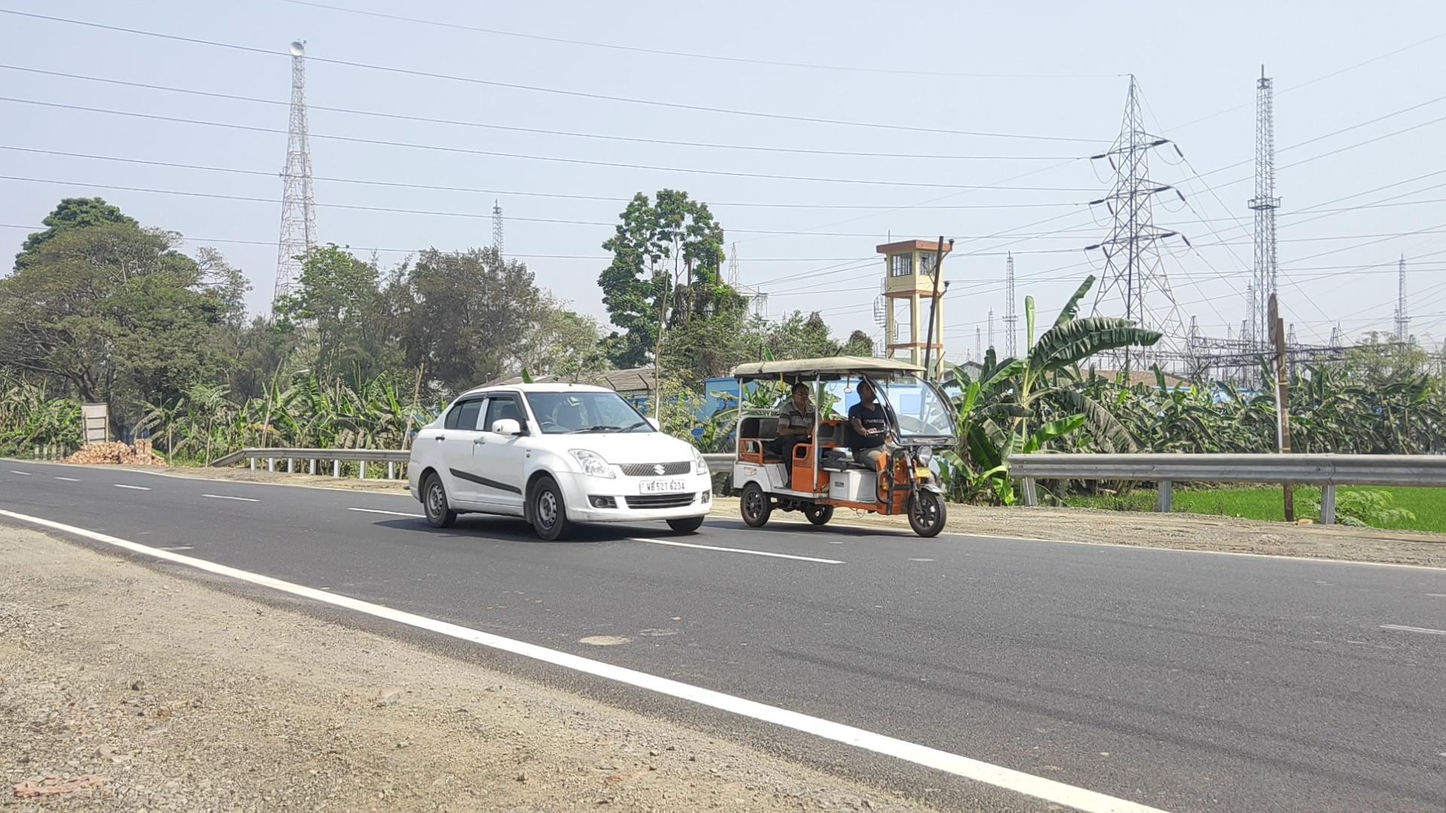Auto: (731, 357, 960, 538)
car: (403, 382, 712, 541)
